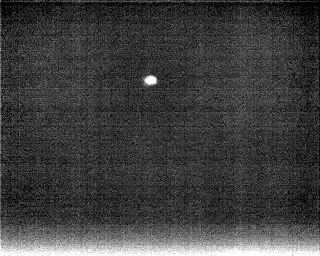AIRPLANE: (142, 72, 160, 88)
